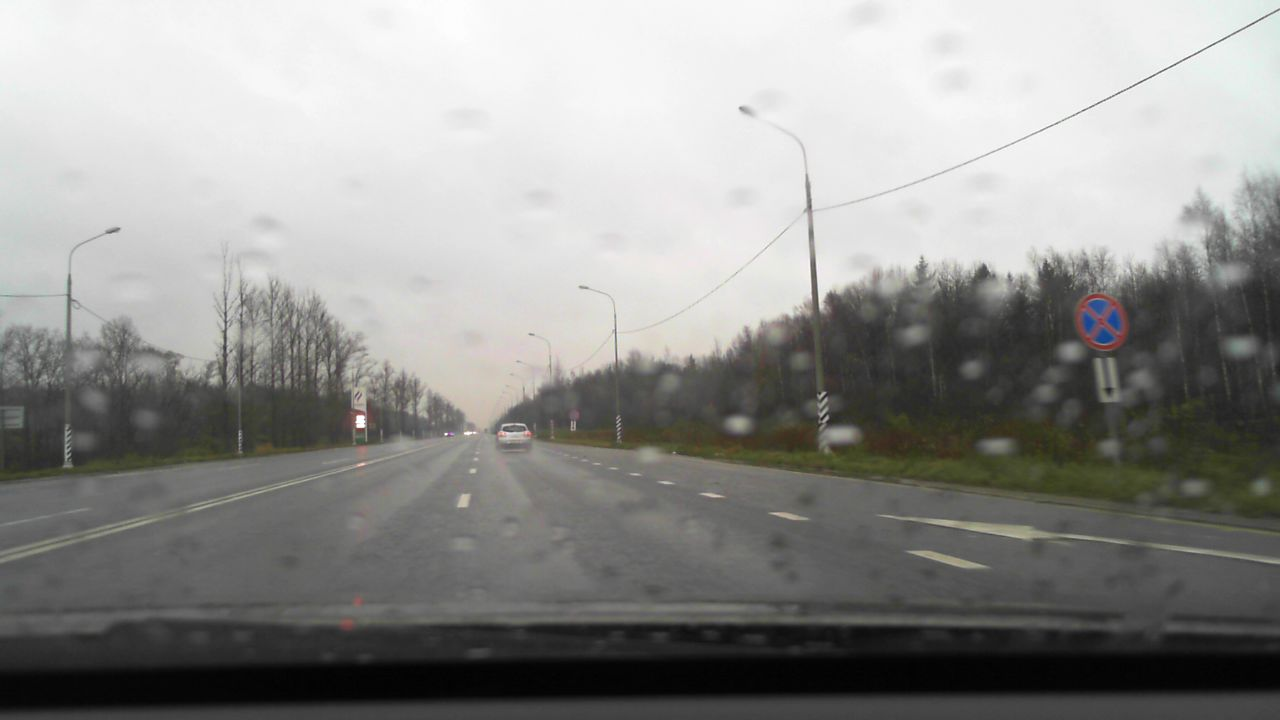No Parking: (1075, 293, 1128, 349)
